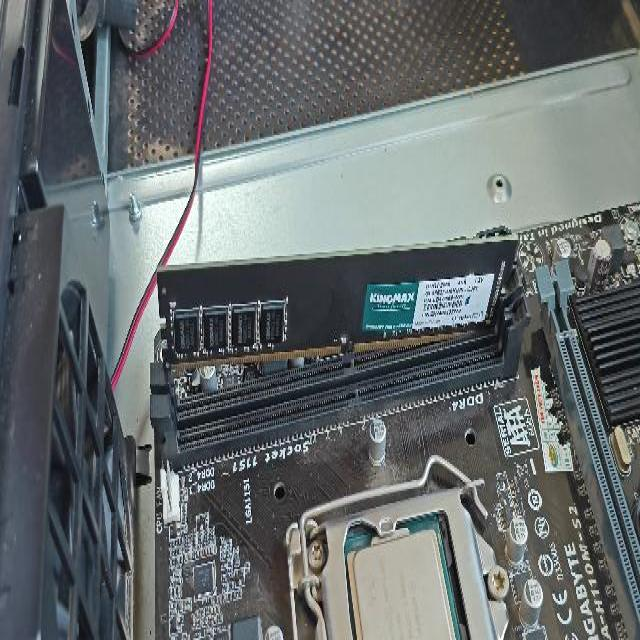CPU: (347, 515, 464, 640)
Mainboard: (134, 181, 640, 640)
RAM: (152, 234, 524, 376)
